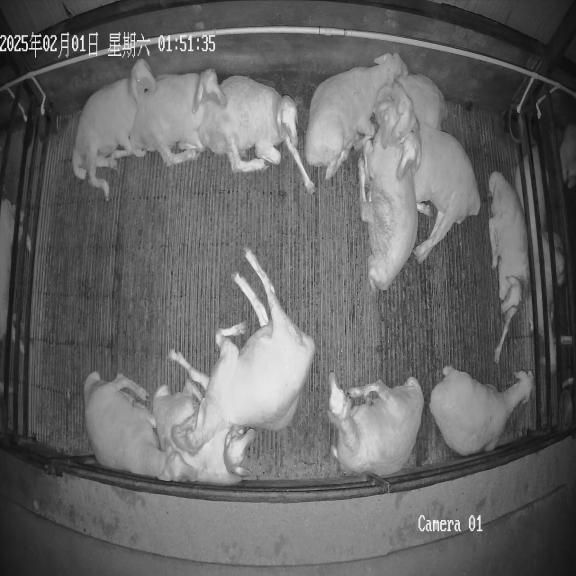lying: (170, 248, 315, 453), (198, 76, 315, 193), (305, 53, 408, 179), (84, 372, 198, 481), (72, 59, 157, 199), (358, 98, 417, 290), (398, 128, 480, 262), (153, 380, 255, 484), (328, 373, 424, 477), (429, 366, 534, 456), (130, 69, 226, 166), (489, 171, 532, 362), (391, 74, 446, 143)
